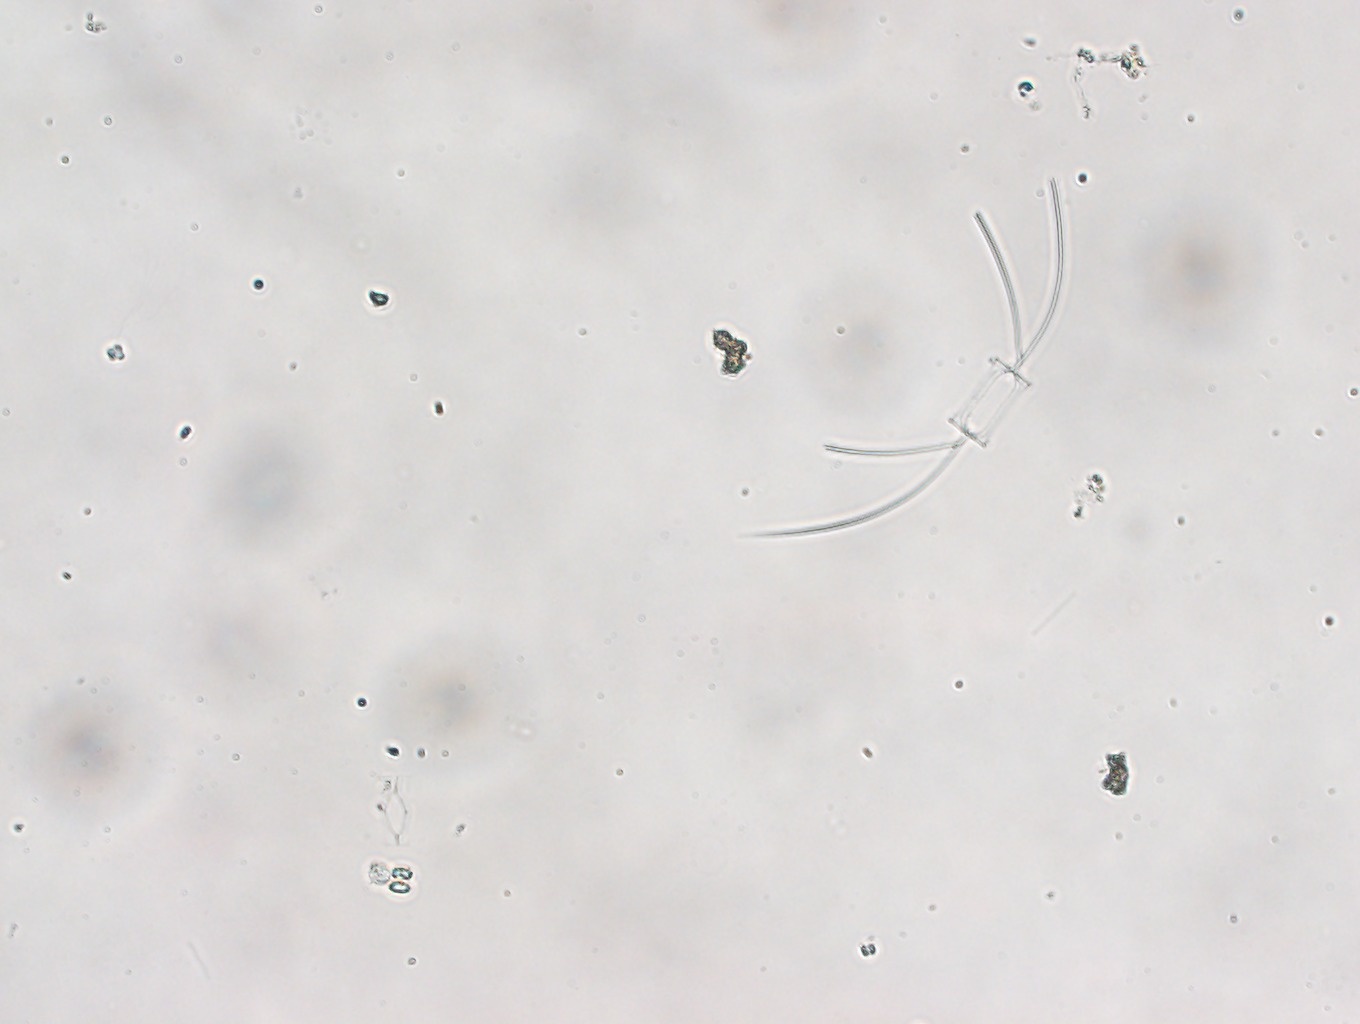chaetoceros: (746, 176, 1063, 541)
